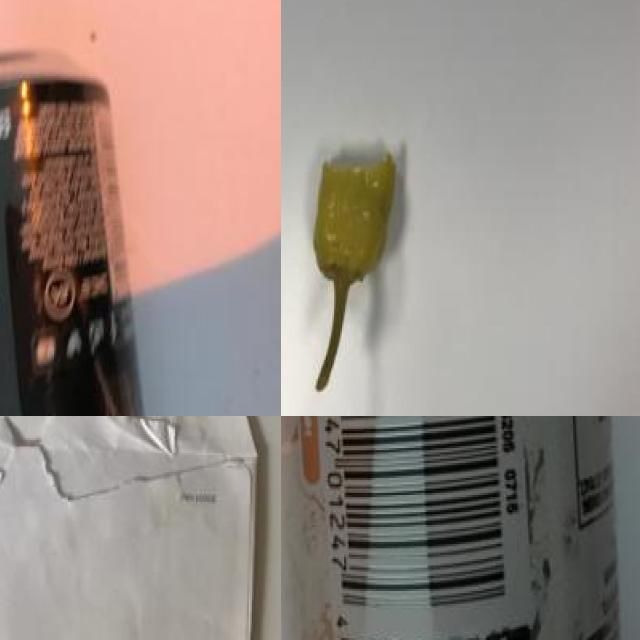compost: (293, 110, 420, 394)
paper: (0, 416, 273, 640)
plastic: (281, 416, 639, 640), (0, 46, 170, 416)
